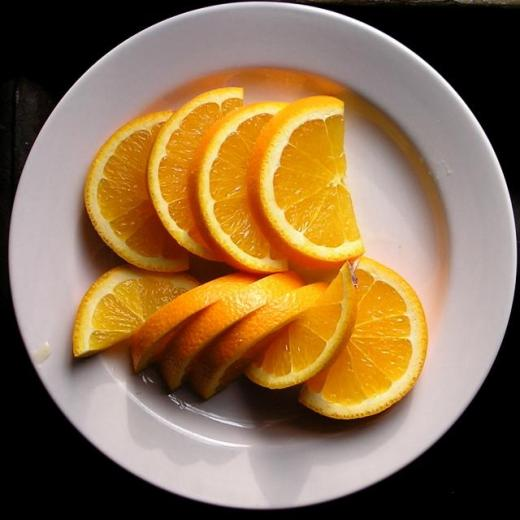Grape: (293, 258, 431, 424), (253, 99, 366, 267), (85, 110, 191, 278), (160, 275, 301, 390), (196, 278, 326, 398), (197, 103, 289, 269), (152, 86, 232, 259), (248, 269, 356, 380), (74, 269, 198, 362), (133, 282, 254, 368)
